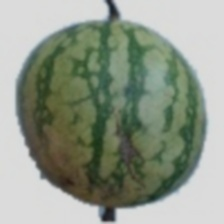watermelon: (46, 35, 186, 224)
